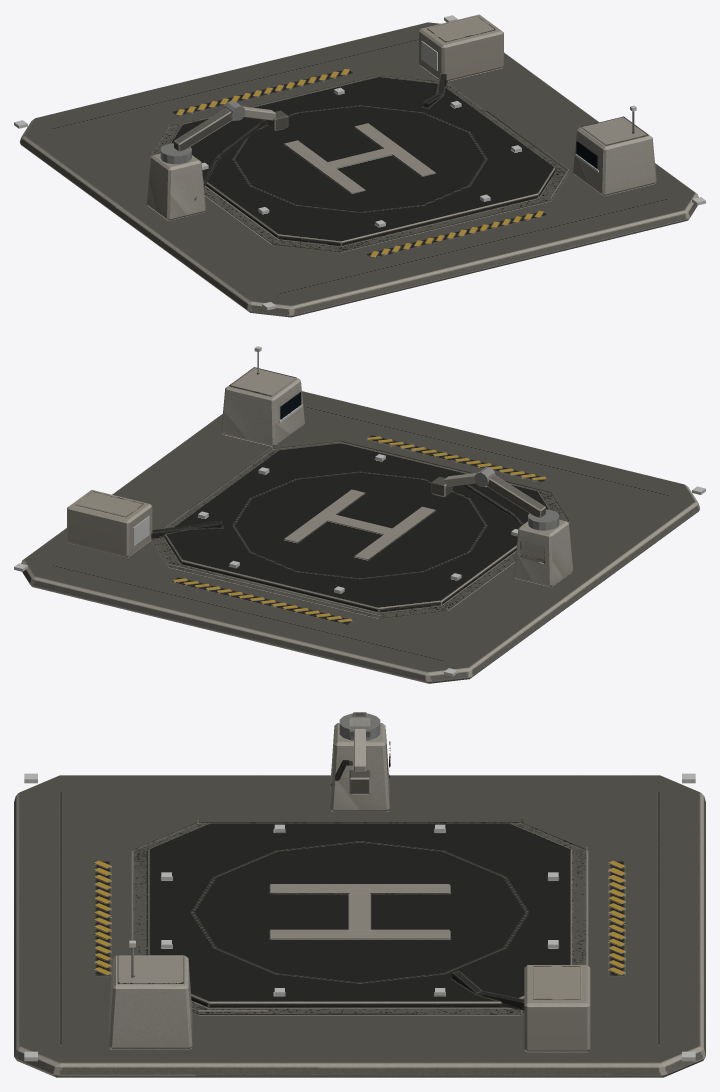
File: ord_airpad.fbx
The picture shows the model from 3 angles, top to bottom: view 1: azimuth 30°, elevation 25°; view 2: azimuth 150°, elevation 25°; view 3: azimuth 270°, elevation 25°; orthographic projection. The views are drawn at different scales.
Visible parts, largest first — view 1: base_bar, base_glow_running_bar; view 2: base_bar, base_glow_running_bar; view 3: base_bar, base_glow_running_bar.
Part boxes in pixels (<box>): base_bar: <box>20,14,698,317</box>; base_glow_running_bar: <box>14,15,705,310</box>; base_bar: <box>21,352,700,683</box>; base_glow_running_bar: <box>14,346,705,676</box>; base_bar: <box>14,712,705,1077</box>; base_glow_running_bar: <box>24,773,695,1061</box>.
Bounding box in the file's own units: 2315 × 695 × 2315.
Materials: 2 (2 with a texture image).
